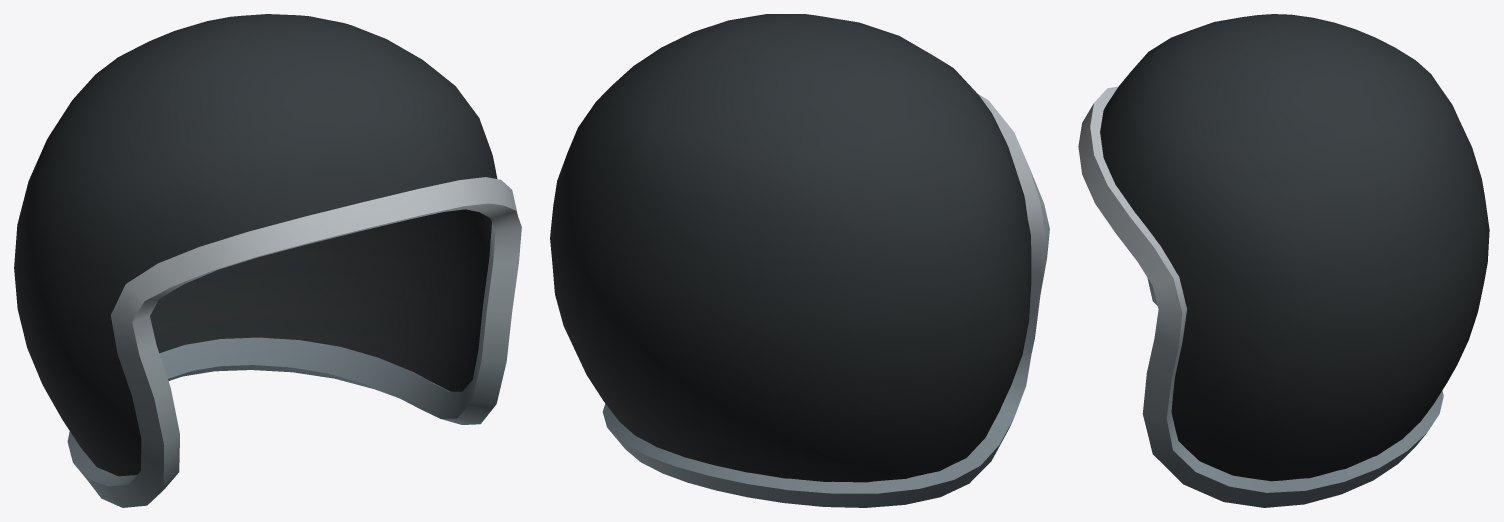
Rendered from Hat_51.glb.
The picture shows the model from 3 angles, left to right: view 1: azimuth 30°, elevation 25°; view 2: azimuth 150°, elevation 25°; view 3: azimuth 270°, elevation 25°; orthographic projection. The views are drawn at different scales.
Visible parts, largest first — view 1: Hat_51; view 2: Hat_51; view 3: Hat_51.
Part boxes in pixels (left/top/right/bottom): Hat_51: left=14, top=14, right=521, bottom=507; Hat_51: left=550, top=14, right=1049, bottom=507; Hat_51: left=1078, top=14, right=1489, bottom=507.
Bounding box in the file's own units: 0.6669 × 0.5916 × 0.5665.
Materials: 1 (1 with a texture image).
